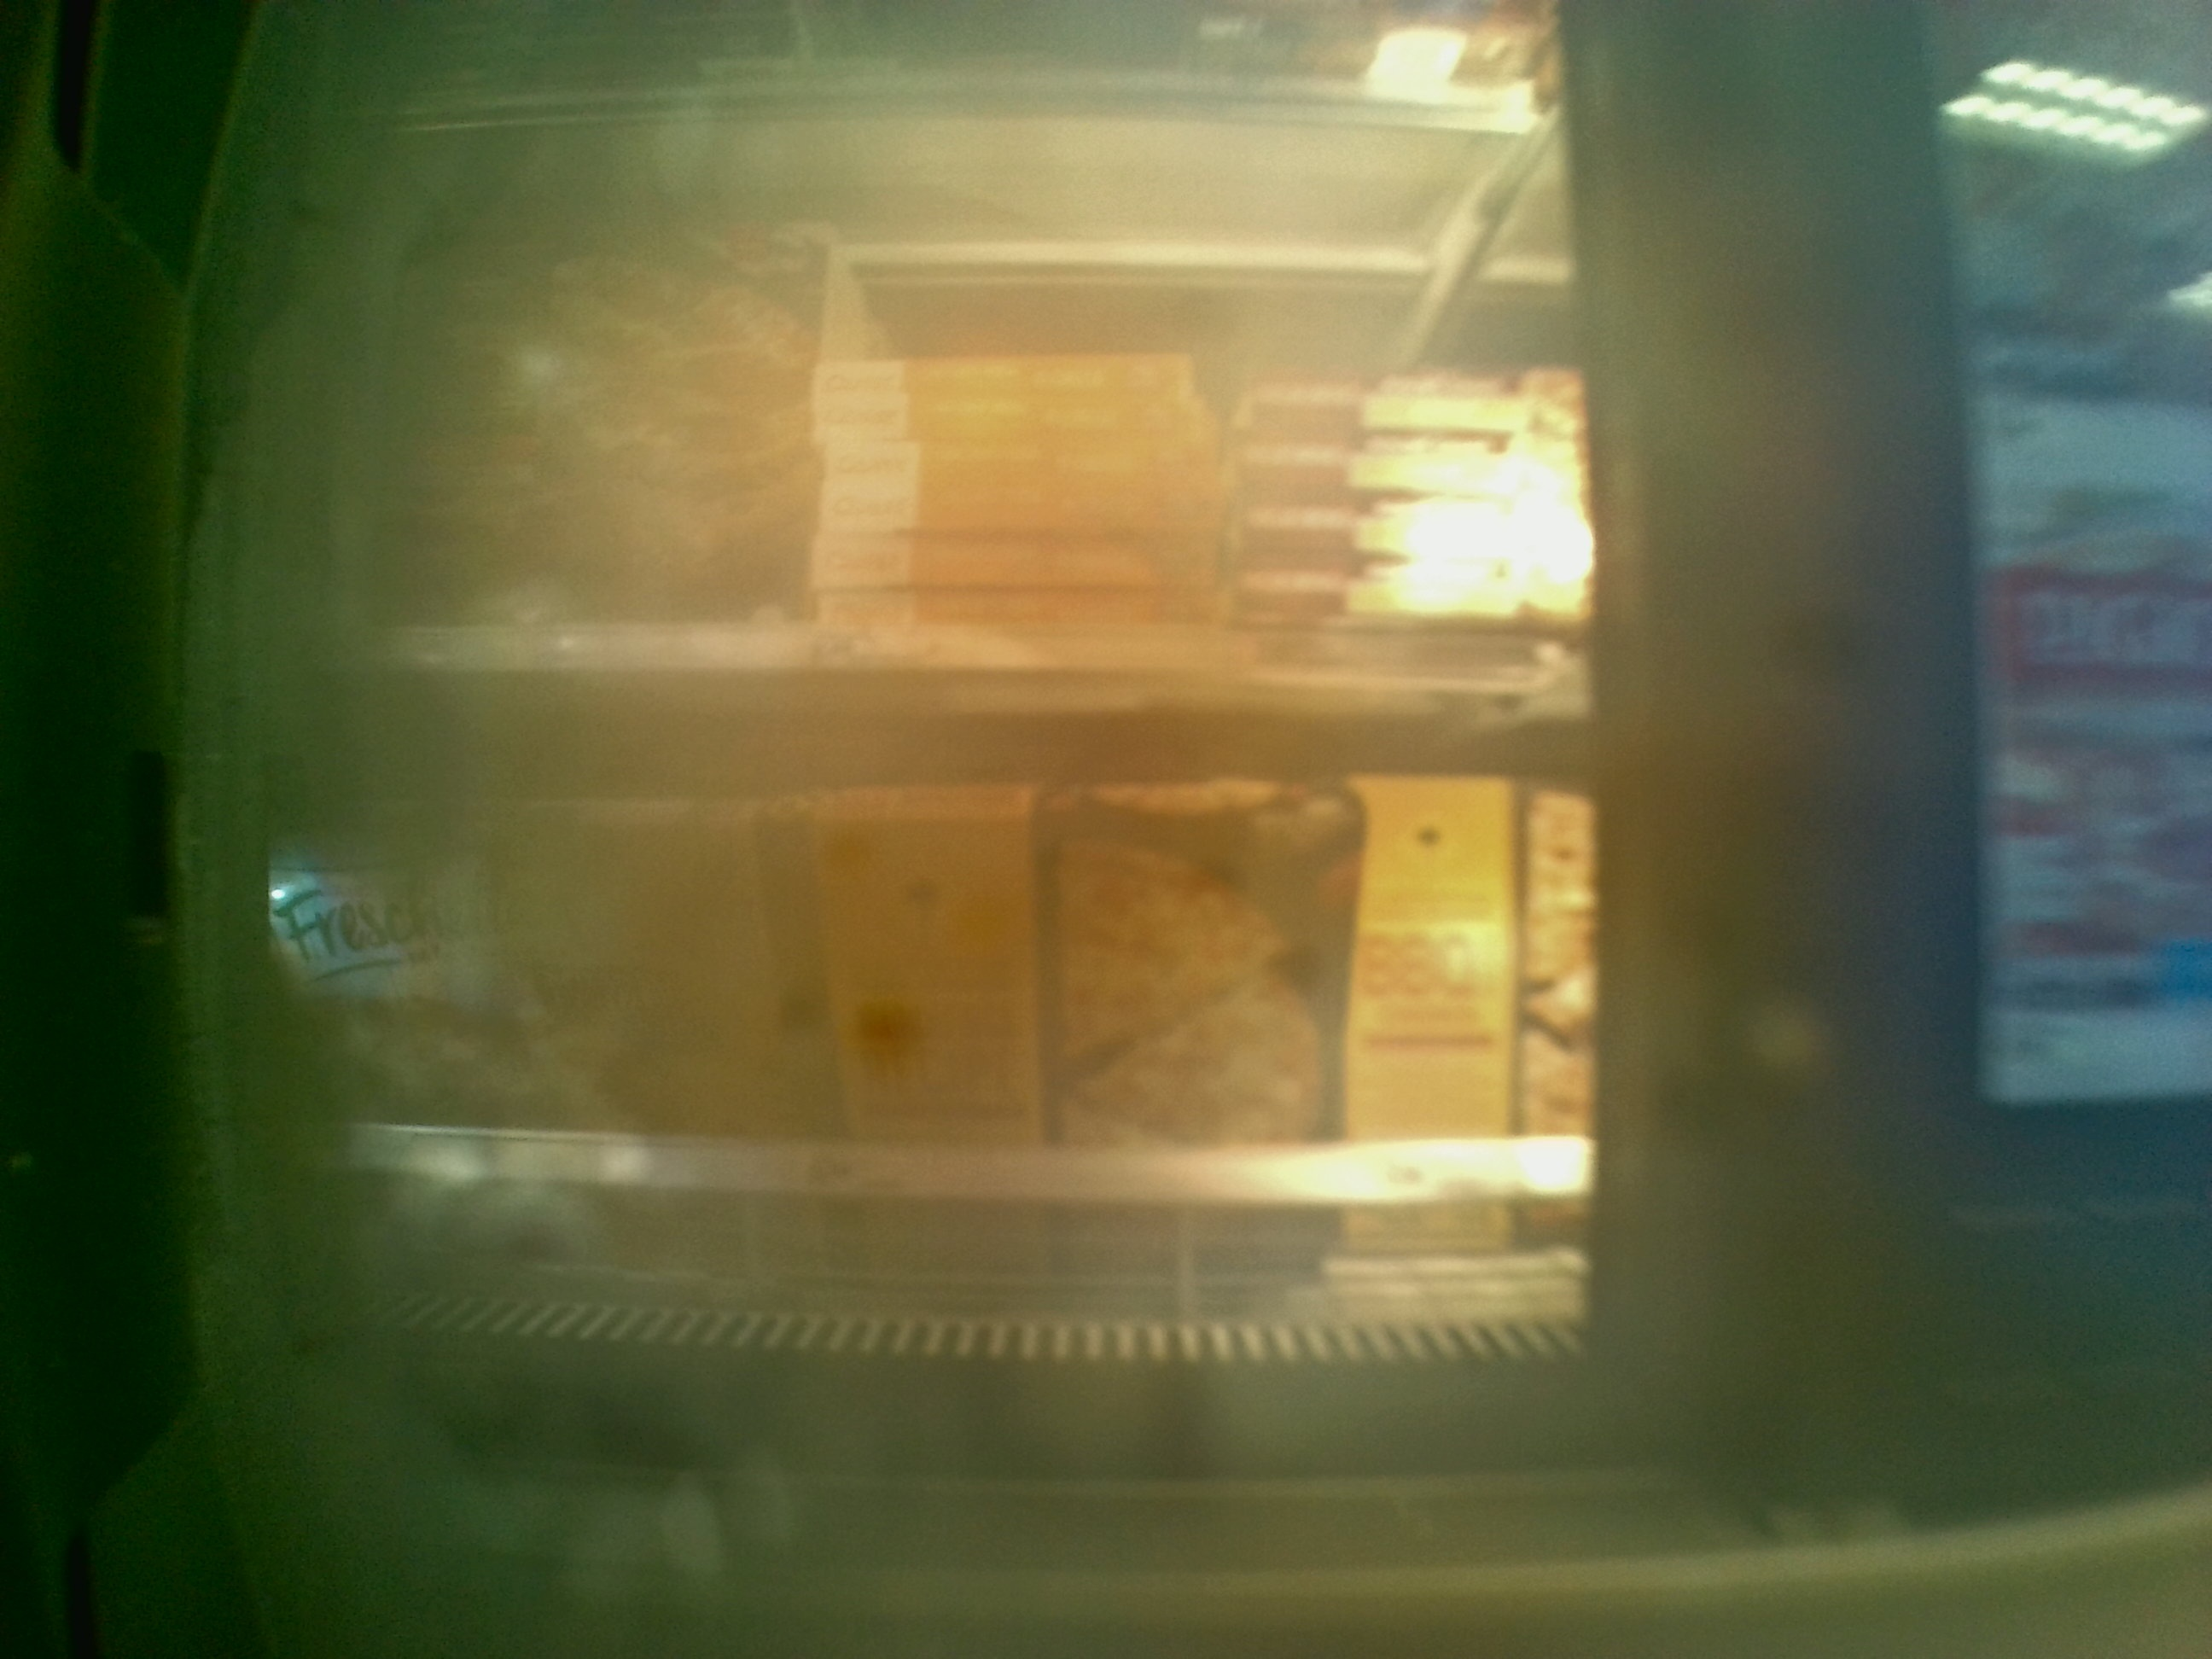pizza: (266, 807, 1336, 1134), (380, 207, 798, 594), (1235, 497, 1592, 570), (1240, 577, 1581, 636), (806, 490, 1195, 537), (1251, 432, 1578, 486), (810, 437, 1190, 481), (810, 401, 1204, 437), (833, 350, 1184, 390), (1240, 371, 1571, 411), (798, 542, 1191, 575), (810, 587, 1211, 617)
